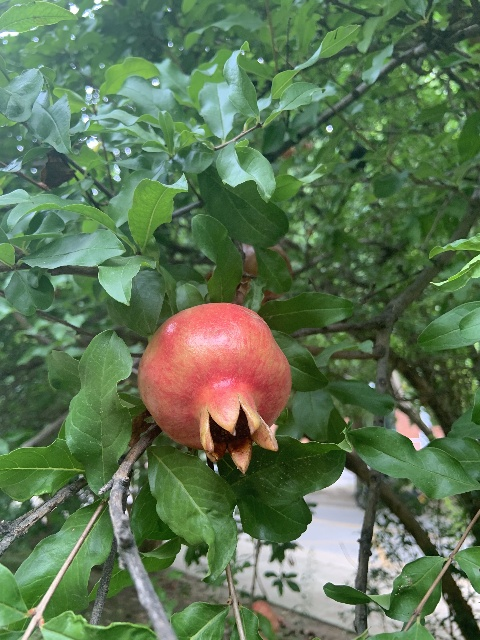ripe: (137, 302, 291, 474)
